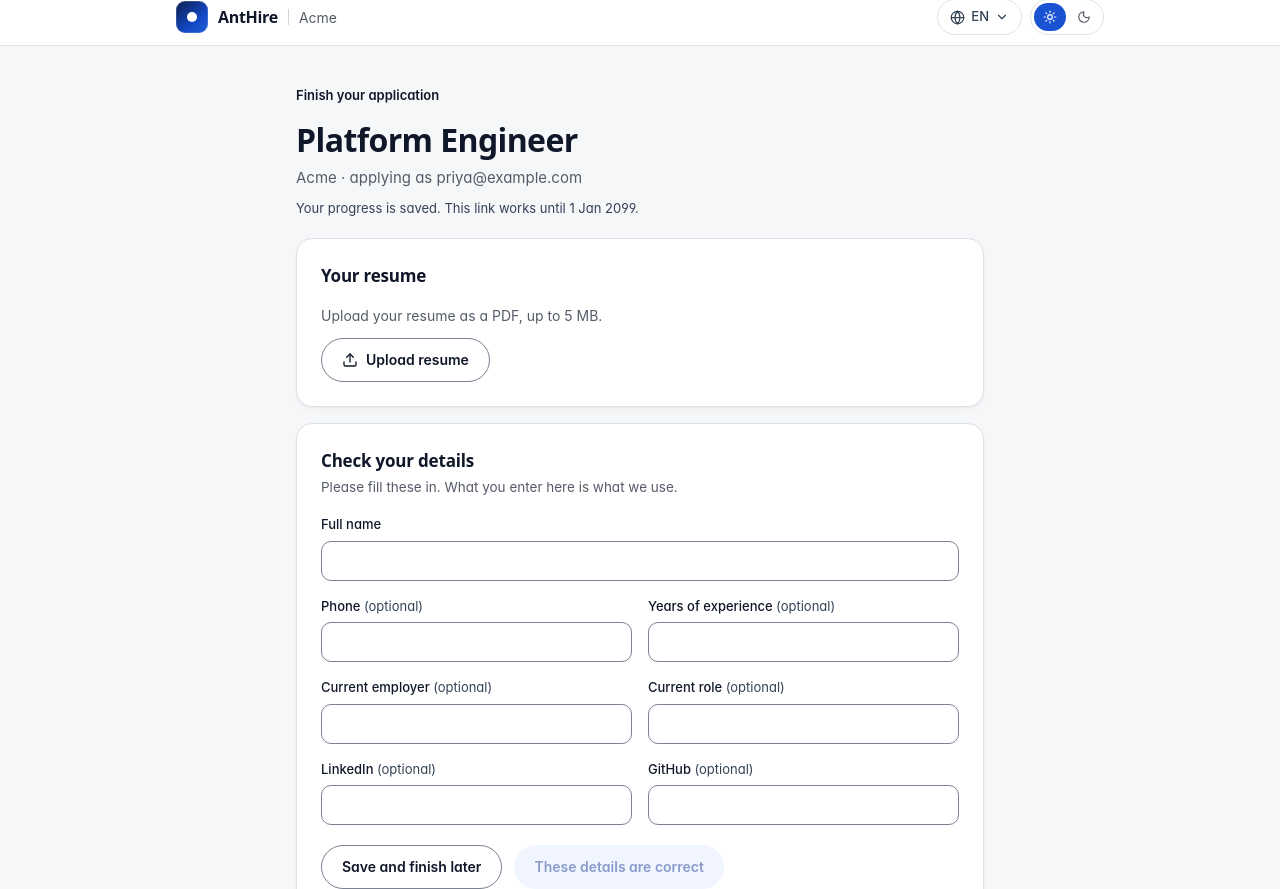
Test: saving › says it saved
Click the button "Save and finish later" at (412, 867), box [321,845,502,888]
(page scrolled)
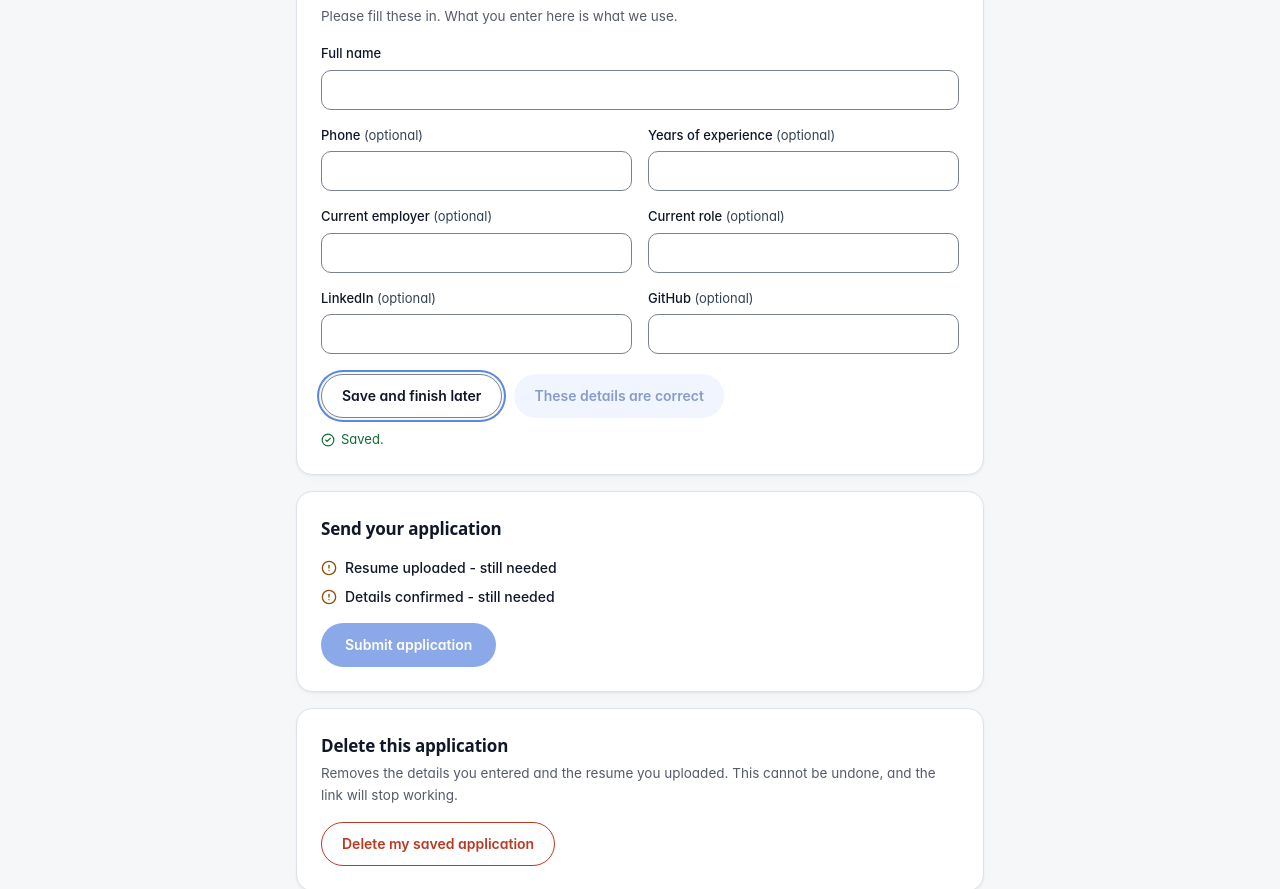
Result: the text "Saved." is shown at [321,431,384,447]
